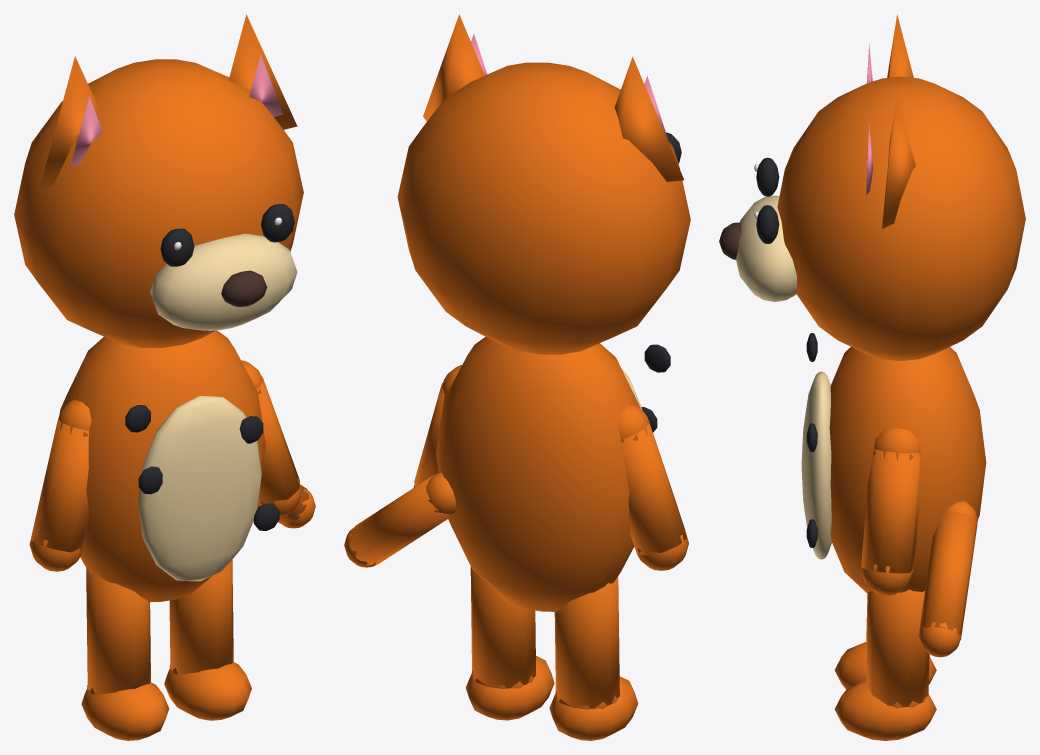
The model's file is chinese-leopard.glb.
3 views of the same model, side by side, from view 1: azimuth 30°, elevation 25°; view 2: azimuth 150°, elevation 25°; view 3: azimuth 270°, elevation 25° (orthographic). The views are drawn at different scales.
Parts seen in each view (by area): view 1: Asset.chinese-leopard; view 2: Asset.chinese-leopard; view 3: Asset.chinese-leopard.
Boxes of the visible parts, bbox=[...] form: Asset.chinese-leopard: bbox=[14, 14, 315, 740]; Asset.chinese-leopard: bbox=[344, 14, 690, 740]; Asset.chinese-leopard: bbox=[719, 14, 1025, 740].
Size of the model in its own units: 2.08 by 4.43 by 1.86.
